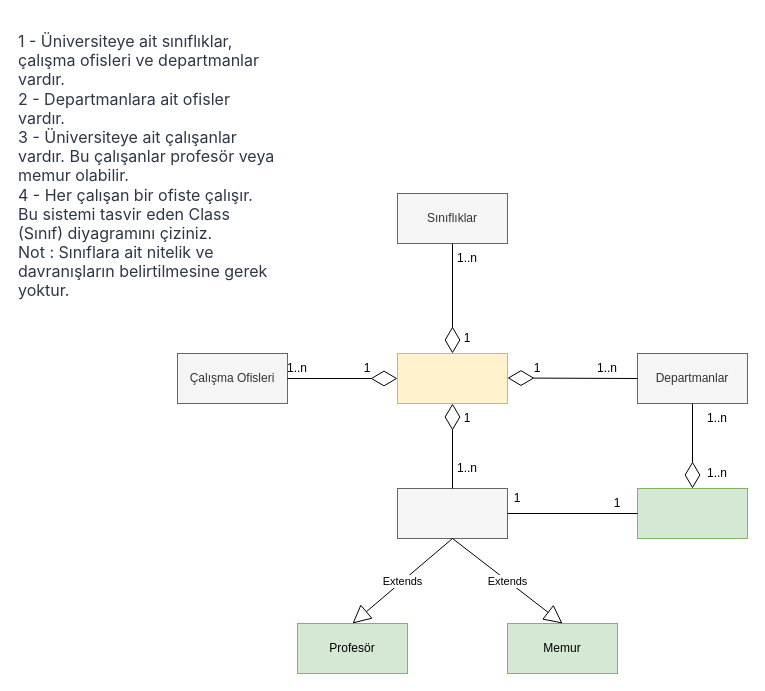
Some shapes in this 765 by 691 pixel diagram are drawn without their labels. Each missing label, with the box of its shape:
Ofisler: (636, 488, 748, 538)
Çalışanlar: (396, 488, 508, 538)
Üniversite: (396, 352, 508, 404)
